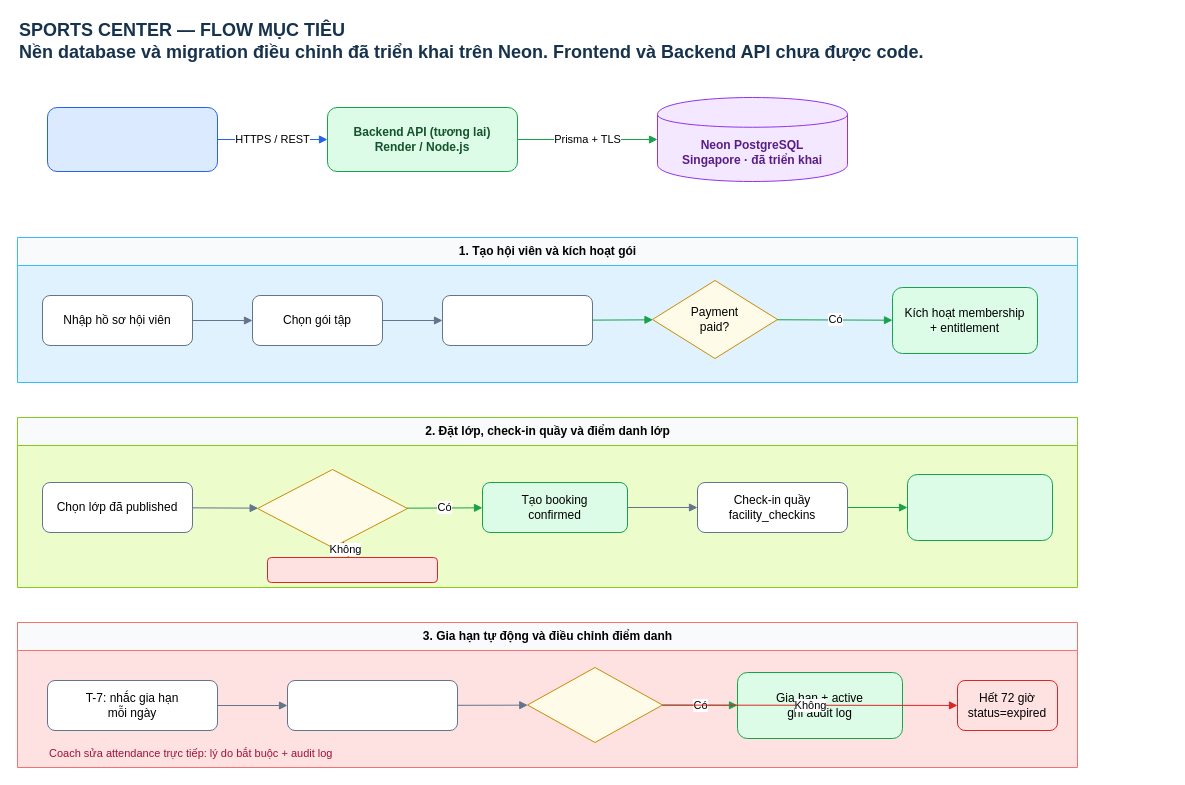
The diagram is 1185 pixels wide and 785 high, and some of its shapes have lost their labels. The shapes that lost their labels are listed below. From the top down, each one's centre as x and y in pixels, then its label:
At point 132,139: "Frontend (tương lai) Vercel".
At point 517,320: "Tạo membership pending_payment".
At point 332,508: "Có entitlement active và còn chỗ?".
At point 979,507: "Coach điểm danh lớp attendance_records".
At point 352,569: "Từ chối: hết chỗ / gói không hợp lệ".
At point 372,705: "Hết hạn hợp đồng + grace 72 giờ".
At point 594,704: "Thanh toán trong 72 giờ?".
